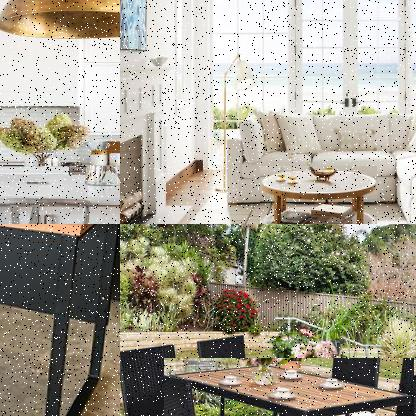table: (0, 224, 119, 415), (164, 358, 416, 415), (259, 166, 379, 223), (0, 166, 119, 223)
